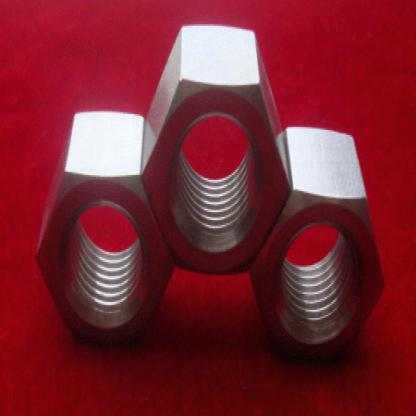FOD: (136, 20, 294, 279), (247, 124, 386, 363), (34, 114, 176, 347)
